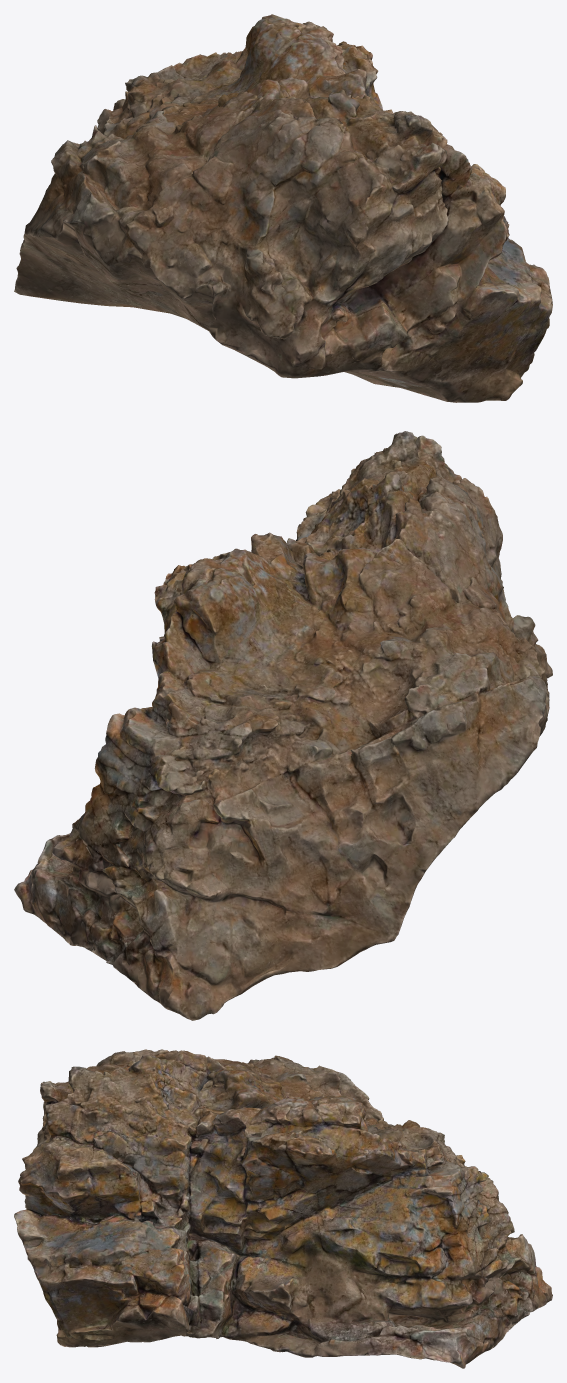
The model's file is boulder_01.glb.
3 renders of one model, top to bottom at view 1: azimuth 30°, elevation 25°; view 2: azimuth 150°, elevation 25°; view 3: azimuth 270°, elevation 25°, orthographic. The views are drawn at different scales.
Parts seen in each view (by area): view 1: boulder_01; view 2: boulder_01; view 3: boulder_01.
Boxes of the visible parts, x1,y1,x2,y2 form: boulder_01: (14, 14, 552, 402); boulder_01: (14, 431, 552, 1020); boulder_01: (14, 1049, 552, 1368).
Size of the model in its own units: 1.27 by 1 by 1.83.
1 material, 1 textured.
